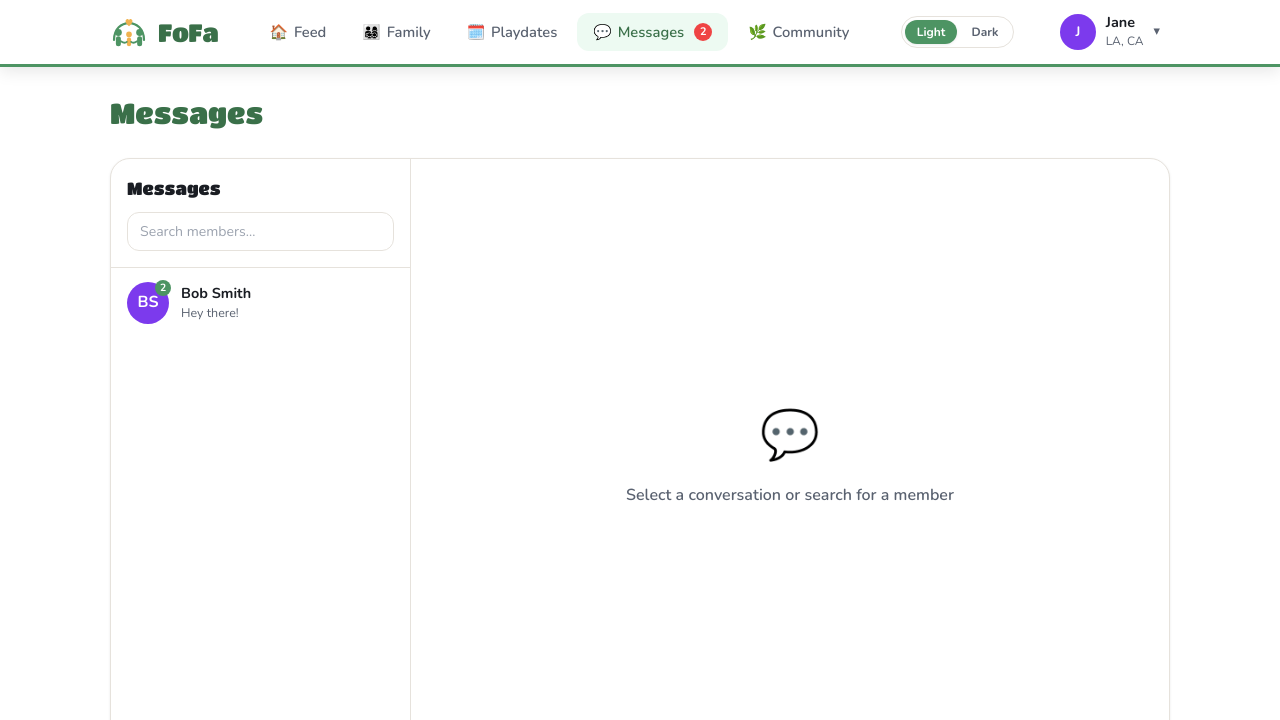
it: UC-05: Direct Messaging › opens chat thread on conversation click
What coordinates should you click on to do the following:
click the button "BS 2 Bob Smith Hey there!"
I would click on:
 (148, 303)
Its box is [111, 268, 410, 338].
(page scrolled)
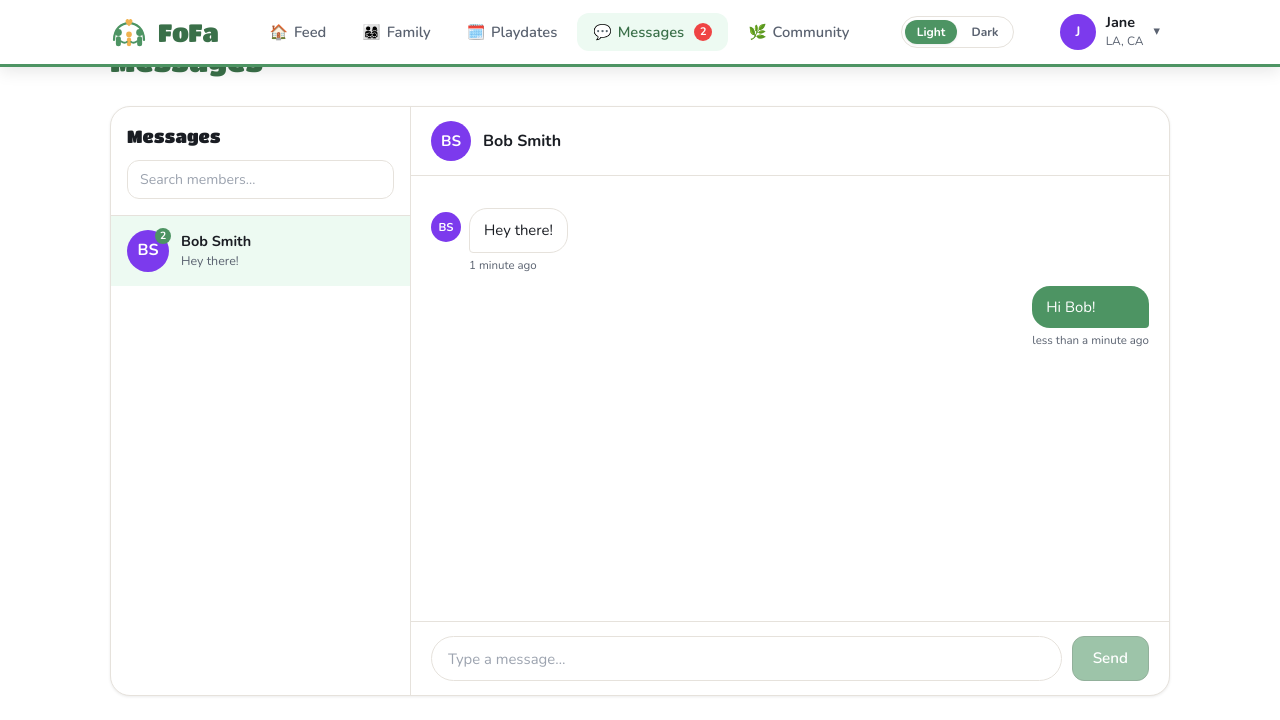
Expected: the button "BS 2 Bob Smith Hey there!" is shown, [111, 216, 410, 286]
Expected: the text "Hi Bob!" is shown, [1032, 286, 1149, 328]
